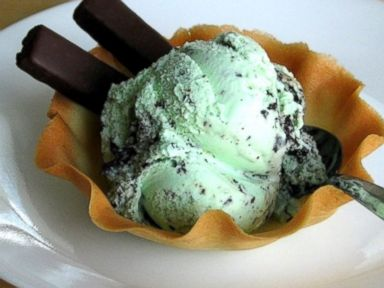ice-cream: (97, 35, 299, 225)
